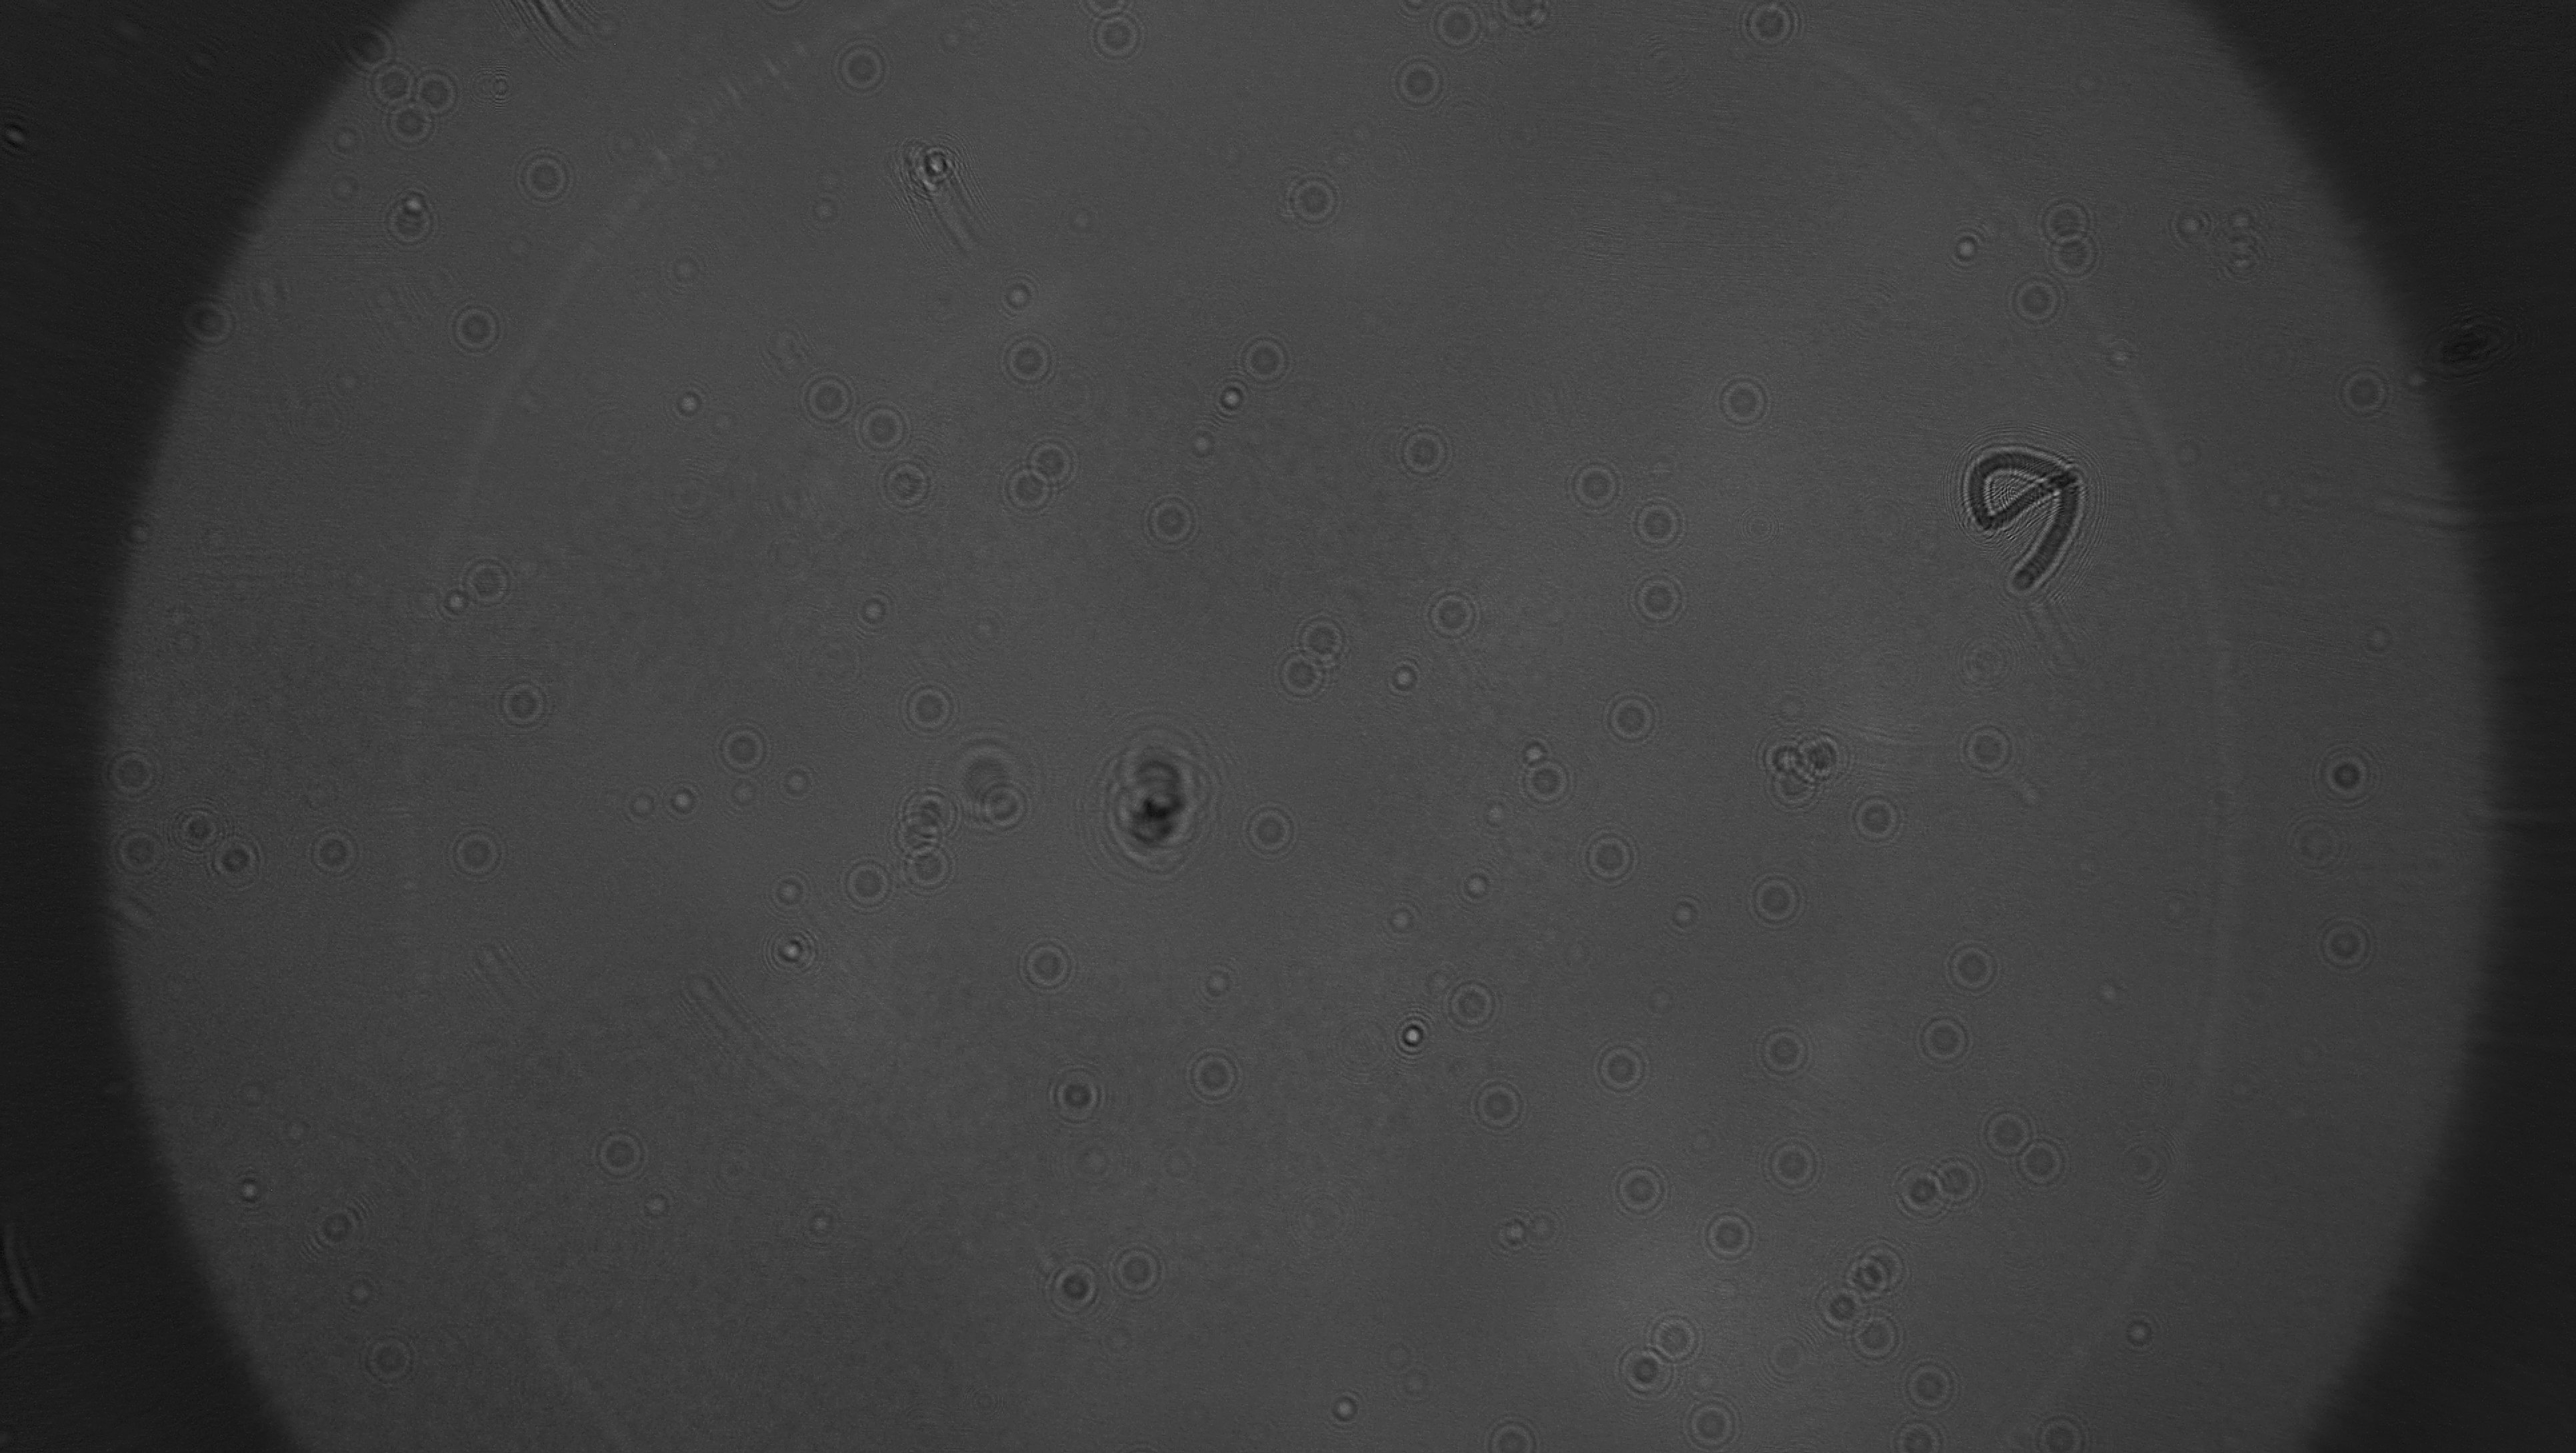bead: (1891, 1011, 1997, 1076), (1021, 1248, 1109, 1326), (1030, 1055, 1115, 1131), (2302, 903, 2387, 979), (1575, 1032, 1660, 1104), (292, 1193, 379, 1260), (1594, 1156, 1683, 1221), (1930, 929, 2010, 1000), (885, 669, 962, 738), (1391, 416, 1463, 487), (504, 143, 579, 212), (1008, 931, 1085, 998), (1131, 488, 1210, 552), (2309, 743, 2388, 807), (1109, 1228, 1171, 1310), (1461, 1071, 1537, 1136), (1755, 1133, 1833, 1196), (350, 1329, 423, 1396), (582, 1120, 655, 1188), (1171, 1048, 1251, 1108), (1559, 451, 1628, 520), (745, 860, 826, 919), (487, 669, 559, 734), (2327, 356, 2399, 421), (1624, 496, 1702, 556), (1576, 821, 1645, 888), (1292, 605, 1362, 671), (1739, 865, 1810, 931), (92, 743, 165, 807), (701, 715, 777, 775), (1621, 570, 1697, 630), (824, 32, 893, 97), (441, 823, 511, 887), (1238, 798, 1309, 862), (1693, 1205, 1767, 1265), (165, 294, 241, 352), (1706, 372, 1775, 435), (1599, 687, 1670, 749), (1744, 1019, 1815, 1081), (451, 549, 518, 612), (1881, 1156, 1944, 1223), (1605, 1343, 1677, 1402), (2028, 191, 2100, 250), (853, 395, 918, 458), (103, 819, 170, 881), (1380, 48, 1447, 110), (1951, 719, 2022, 777), (326, 16, 398, 73), (2040, 232, 2112, 288), (993, 458, 1056, 522), (793, 368, 858, 430), (994, 327, 1060, 389), (1263, 642, 1329, 704), (1437, 975, 1507, 1032), (1647, 1306, 1709, 1370), (1417, 582, 1483, 642), (1900, 1350, 1966, 1411), (380, 96, 448, 154), (1021, 432, 1088, 490), (2005, 274, 2072, 333), (1375, 1007, 1444, 1064), (1677, 1396, 1746, 1453), (377, 193, 442, 251), (840, 851, 899, 917), (1507, 756, 1582, 807), (1235, 333, 1302, 389), (211, 835, 271, 897), (1283, 170, 1343, 232), (1849, 786, 1911, 846), (878, 451, 936, 515), (442, 299, 508, 356), (1085, 9, 1148, 65), (2017, 1136, 2081, 1193), (1847, 1308, 1911, 1365), (987, 267, 1053, 322), (899, 844, 964, 899), (1930, 1152, 1989, 1212), (299, 825, 363, 880), (1739, 0, 1803, 55), (1421, 5, 1493, 53), (1472, 1409, 1550, 1453), (759, 922, 821, 977), (1976, 1106, 2038, 1161), (971, 782, 1035, 835), (366, 55, 421, 113), (409, 67, 469, 120), (901, 784, 962, 835), (1376, 651, 1435, 703), (655, 379, 717, 427), (876, 814, 945, 857), (2028, 1411, 2097, 1453), (1453, 858, 1507, 908), (656, 246, 713, 294), (1881, 1418, 1953, 1453), (612, 777, 662, 828), (846, 586, 899, 634), (329, 1272, 386, 1317), (1201, 375, 1251, 425), (773, 759, 826, 805), (1810, 1280, 1858, 1329), (1502, 731, 1559, 772), (658, 775, 704, 821), (720, 780, 770, 814)
dust: (2268, 805, 2364, 881), (1277, 1182, 1366, 1249), (1920, 216, 2003, 274), (281, 391, 359, 451), (2112, 1131, 2181, 1198), (656, 465, 731, 526), (2088, 319, 2153, 379), (787, 1196, 855, 1255), (2348, 616, 2417, 673), (2212, 191, 2281, 244), (1957, 635, 2028, 687), (952, 602, 1016, 657), (1180, 957, 1247, 1009), (2112, 1310, 2174, 1363), (1550, 927, 1614, 977), (1309, 1382, 1373, 1432), (706, 1140, 763, 1195), (754, 531, 814, 582), (1461, 789, 1523, 837), (1173, 423, 1230, 474), (1759, 1329, 1815, 1380), (600, 122, 662, 168), (1051, 193, 1109, 241), (1638, 41, 1697, 88), (317, 117, 373, 165), (1658, 892, 1716, 938), (2250, 474, 2304, 524), (1637, 442, 1691, 490), (1373, 892, 1428, 940), (2162, 205, 2219, 251), (793, 191, 855, 232), (104, 513, 168, 552), (1069, 1140, 1122, 1186), (1766, 683, 1821, 727), (2162, 428, 2217, 473), (579, 9, 640, 48), (2220, 246, 2279, 287), (1152, 1143, 1201, 1191), (1394, 1365, 1444, 1412), (1518, 1205, 1569, 1251), (2086, 970, 2141, 1012), (1683, 1117, 1730, 1165), (1635, 980, 1686, 1023), (495, 227, 547, 267), (633, 1186, 681, 1226), (156, 602, 209, 637), (610, 184, 656, 223), (934, 23, 980, 62), (195, 520, 239, 559), (1375, 1336, 1419, 1372)
